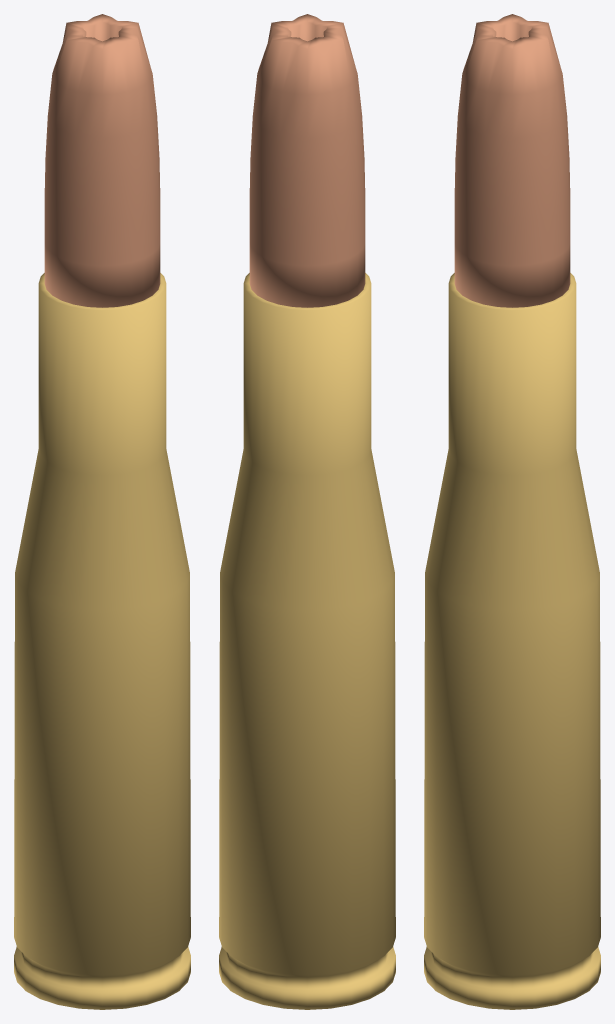
3 views of the same model, side by side, from view 1: azimuth 30°, elevation 25°; view 2: azimuth 150°, elevation 25°; view 3: azimuth 270°, elevation 25° (orthographic).
Visible parts, largest first — view 1: vaina, bala_hueca; view 2: vaina, bala_hueca; view 3: vaina, bala_hueca.
Boxes of the visible parts, x1=… form: vaina: x1=14, y1=273, x2=190, y2=1009; bala_hueca: x1=44, y1=14, x2=160, y2=307; vaina: x1=219, y1=273, x2=395, y2=1009; bala_hueca: x1=249, y1=14, x2=365, y2=307; vaina: x1=424, y1=273, x2=600, y2=1009; bala_hueca: x1=454, y1=14, x2=570, y2=307.
Bounding box in the file's own units: 0.0119 × 0.0699 × 0.0119.
